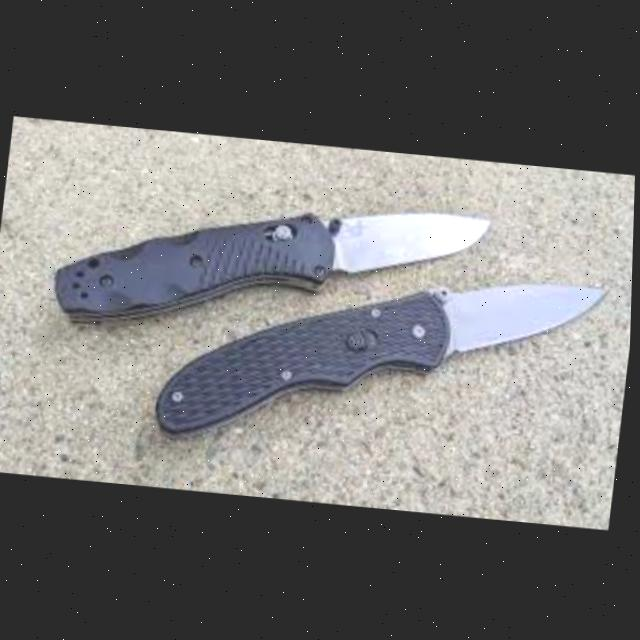knife: (155, 243, 613, 471), (50, 173, 494, 358)
